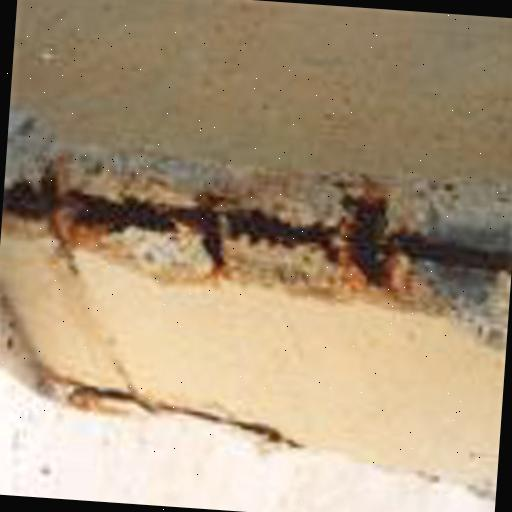spalling: (0, 149, 512, 311)
